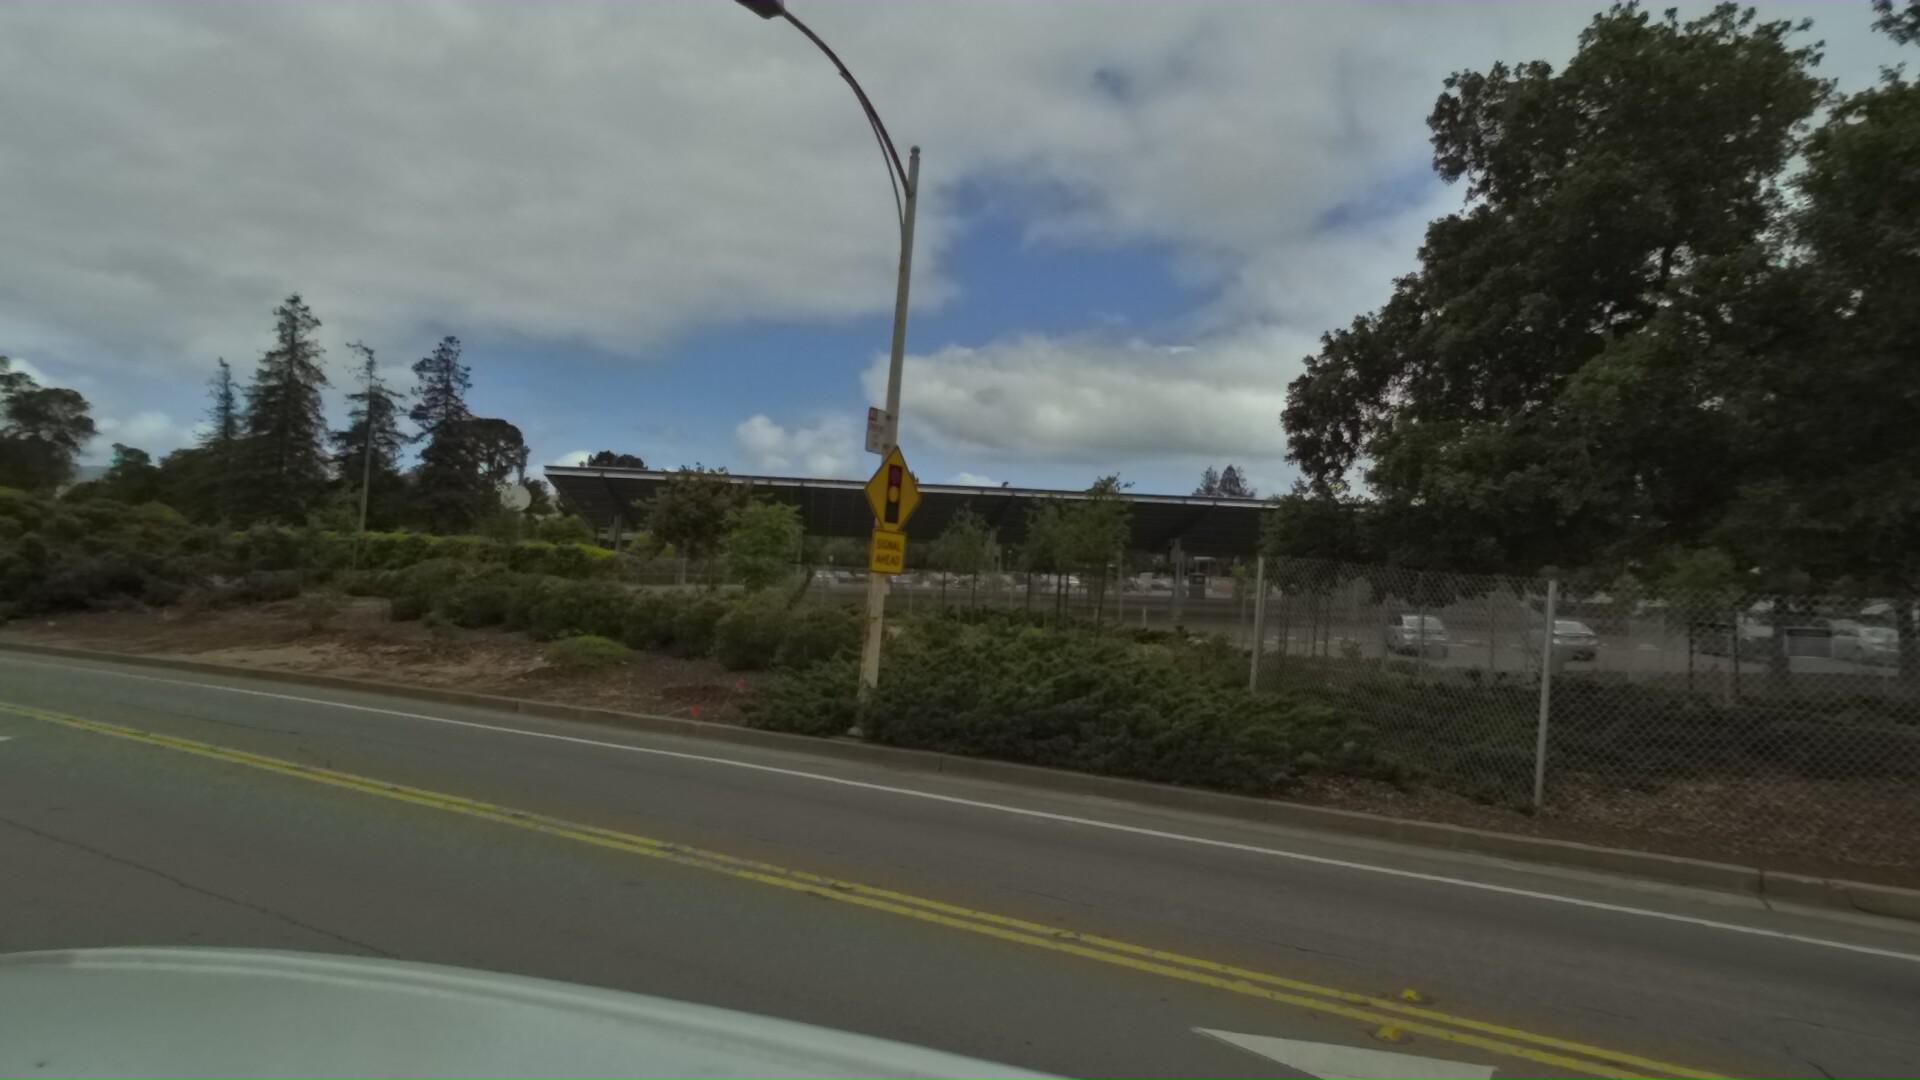car: (1720, 574, 1920, 1080)
